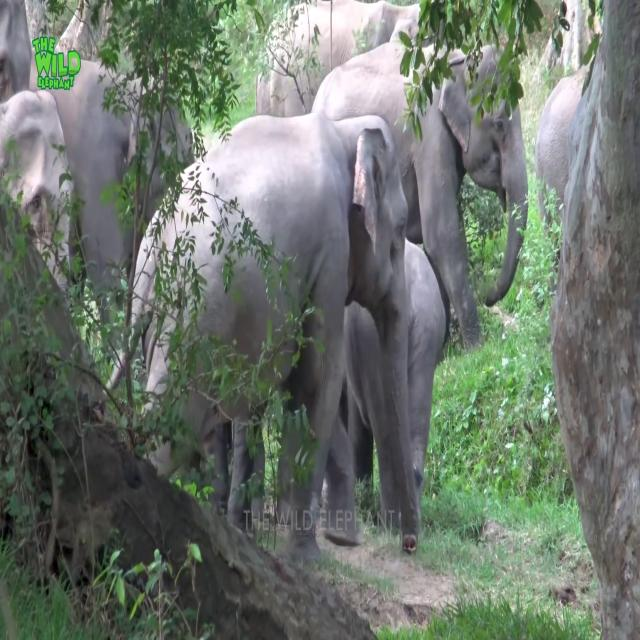Elephant: (105, 110, 413, 564), (310, 28, 529, 354), (534, 59, 593, 291)
